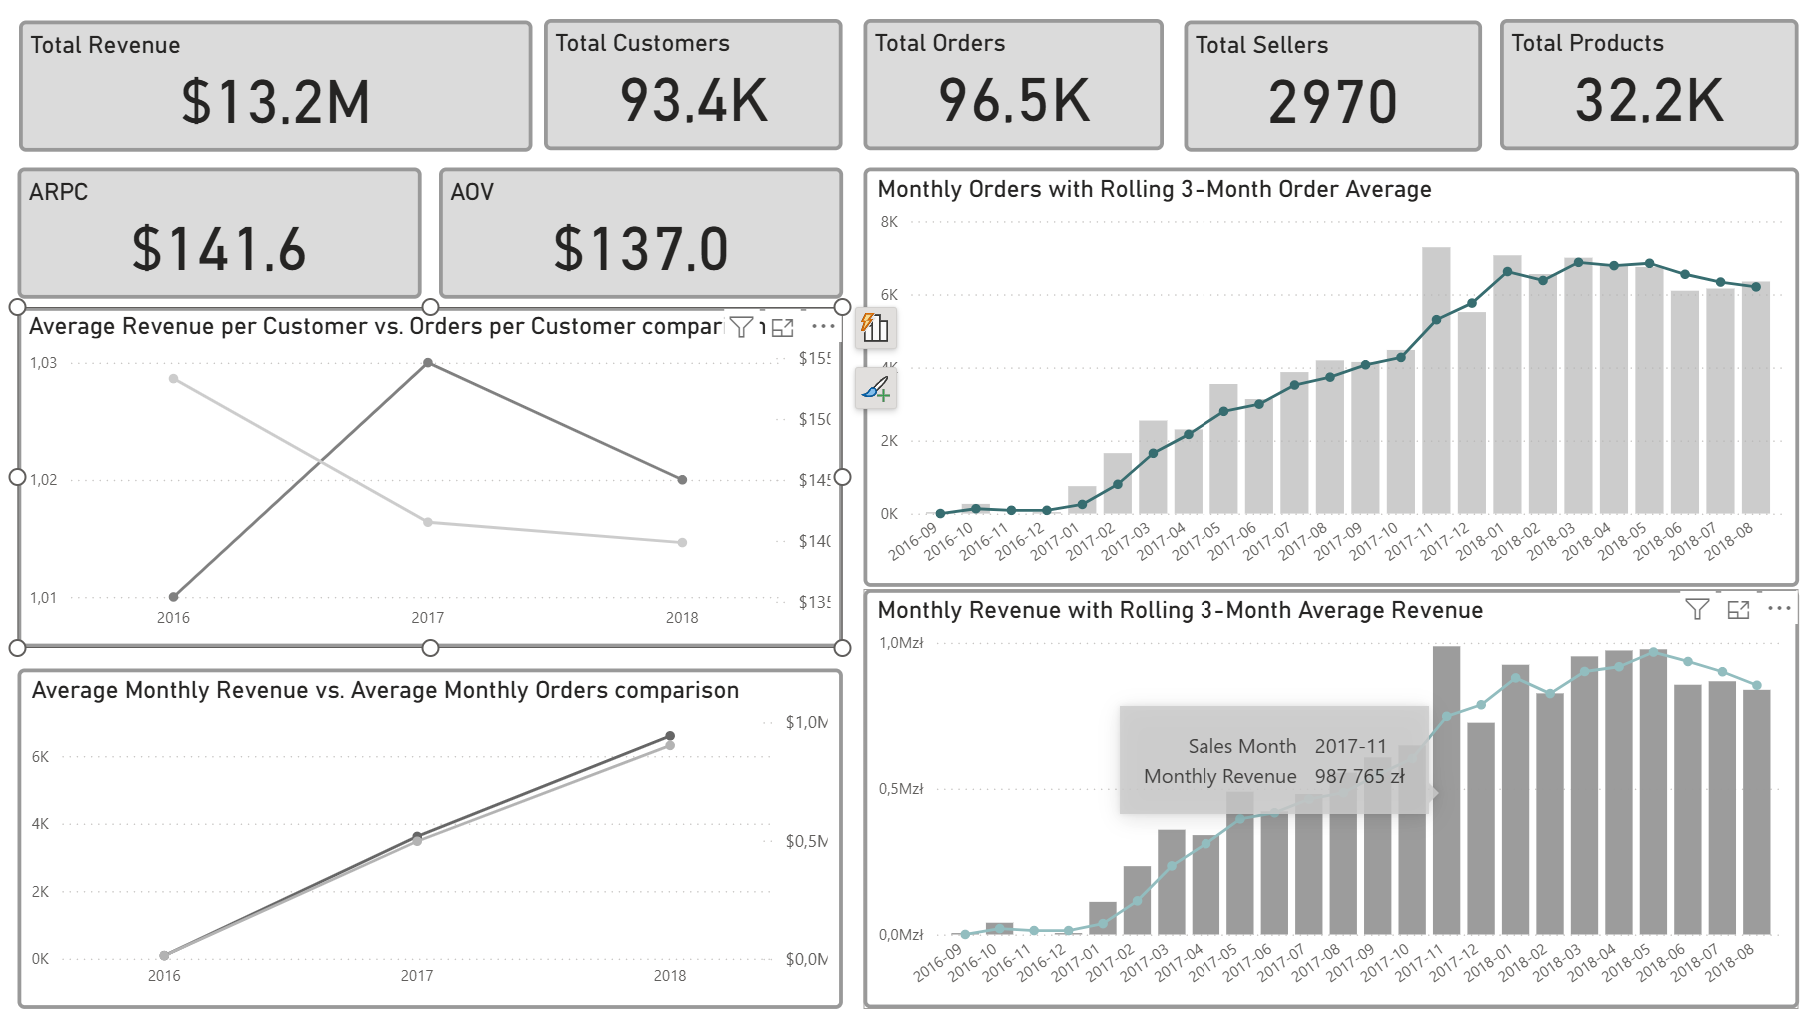

What the dashboard file says about the page in this screenshot:
{"tool":"powerbi","page":{"name":"Page 1","canvas":[1280,720],"ordinal":0},"visuals":[{"type":"card","title":"Total Revenue","fields":{"Values":["Sum(ecommerce vw_total_metrics.total_revenue)"]},"box":[14.4,19.7,360.3,91.7],"z":0},{"type":"card","title":"Total Orders","fields":{"Values":["Sum(ecommerce vw_total_metrics.total_orders)"]},"box":[606.6,19.3,210.7,91.9],"z":1000},{"type":"card","title":"Total Customers","fields":{"Values":["Sum(ecommerce vw_total_metrics.total_customers)"]},"box":[383.1,19.2,209.4,91.9],"z":2000},{"type":"card","title":"ARPC","fields":{"Values":["Sum(ecommerce vw_total_metrics.average_rev_per_customer)"]},"box":[14,122.6,283,91.9],"z":3000},{"type":"card","title":"AOV","fields":{"Values":["Sum(ecommerce vw_total_metrics.average_order_value)"]},"box":[309,122.6,283.5,91.9],"z":4000},{"type":"card","title":"Total Sellers","fields":{"Values":["Sum(ecommerce vw_total_metrics.total_sellers)"]},"box":[831.3,19.5,209.4,91.9],"z":5000},{"type":"card","title":"Total Products","fields":{"Values":["Sum(ecommerce vw_total_metrics.total_products)"]},"box":[1053.5,19.2,209.4,91.9],"z":6000},{"type":"lineStackedColumnComboChart","title":"Monthly Orders with Rolling 3-Month Order Average","fields":{"Category":["ecommerce vw_3m_metrics.calendar_month"],"Y":["Max(ecommerce vw_3m_metrics.monthly_orders)"],"Y2":["Max(ecommerce vw_3m_metrics.ravg_orders_3m)"]},"box":[606.6,122.6,656.4,293.7],"z":7000},{"type":"lineStackedColumnComboChart","title":"Monthly Revenue with Rolling 3-Month Average Revenue","fields":{"Category":["ecommerce vw_3m_metrics.calendar_month"],"Y2":["Max(ecommerce vw_3m_metrics.ravg_rev_3m)"],"Y":["Max(ecommerce vw_3m_metrics.monthly_rev)"]},"box":[606.6,418.9,656.4,293.7],"z":8000},{"type":"lineChart","title":"Average Revenue per Customer vs. Orders per Customer comparison","fields":{"Category":["ecommerce vw_annual_metrics.sales_year"],"Y":["Sum(ecommerce vw_annual_metrics.average_orders_per_customer)"],"Y2":["Sum(ecommerce vw_annual_metrics.annual_average_rev_per_customer)"]},"box":[14,220.9,578.5,238.8],"z":9000},{"type":"lineChart","title":"Average Monthly Revenue vs. Average Monthly Orders comparison","fields":{"Category":["ecommerce vw_annual_metrics.sales_year"],"Y":["Sum(ecommerce vw_annual_metrics.average_monthly_orders)"],"Y2":["Sum(ecommerce vw_annual_metrics.average_monthly_revenue)"]},"box":[14,473.8,578.5,238.8],"z":10000}]}

Visuals, with their boxes in screenshot pixels (x1, y1, x2, y2), scaled from the page's 1280x720 canvas onto the 1811x1015 screenshot:
"Total Revenue" card: (left=20, top=28, right=530, bottom=157)
"Total Orders" card: (left=858, top=27, right=1156, bottom=157)
"Total Customers" card: (left=542, top=27, right=838, bottom=157)
"ARPC" card: (left=20, top=173, right=420, bottom=302)
"AOV" card: (left=437, top=173, right=838, bottom=302)
"Total Sellers" card: (left=1176, top=27, right=1472, bottom=157)
"Total Products" card: (left=1491, top=27, right=1787, bottom=157)
"Monthly Orders with Rolling 3-Month Order Average" lineStackedColumnComboChart: (left=858, top=173, right=1787, bottom=587)
"Monthly Revenue with Rolling 3-Month Average Revenue" lineStackedColumnComboChart: (left=858, top=591, right=1787, bottom=1005)
"Average Revenue per Customer vs. Orders per Customer comparison" lineChart: (left=20, top=311, right=838, bottom=648)
"Average Monthly Revenue vs. Average Monthly Orders comparison" lineChart: (left=20, top=668, right=838, bottom=1005)
